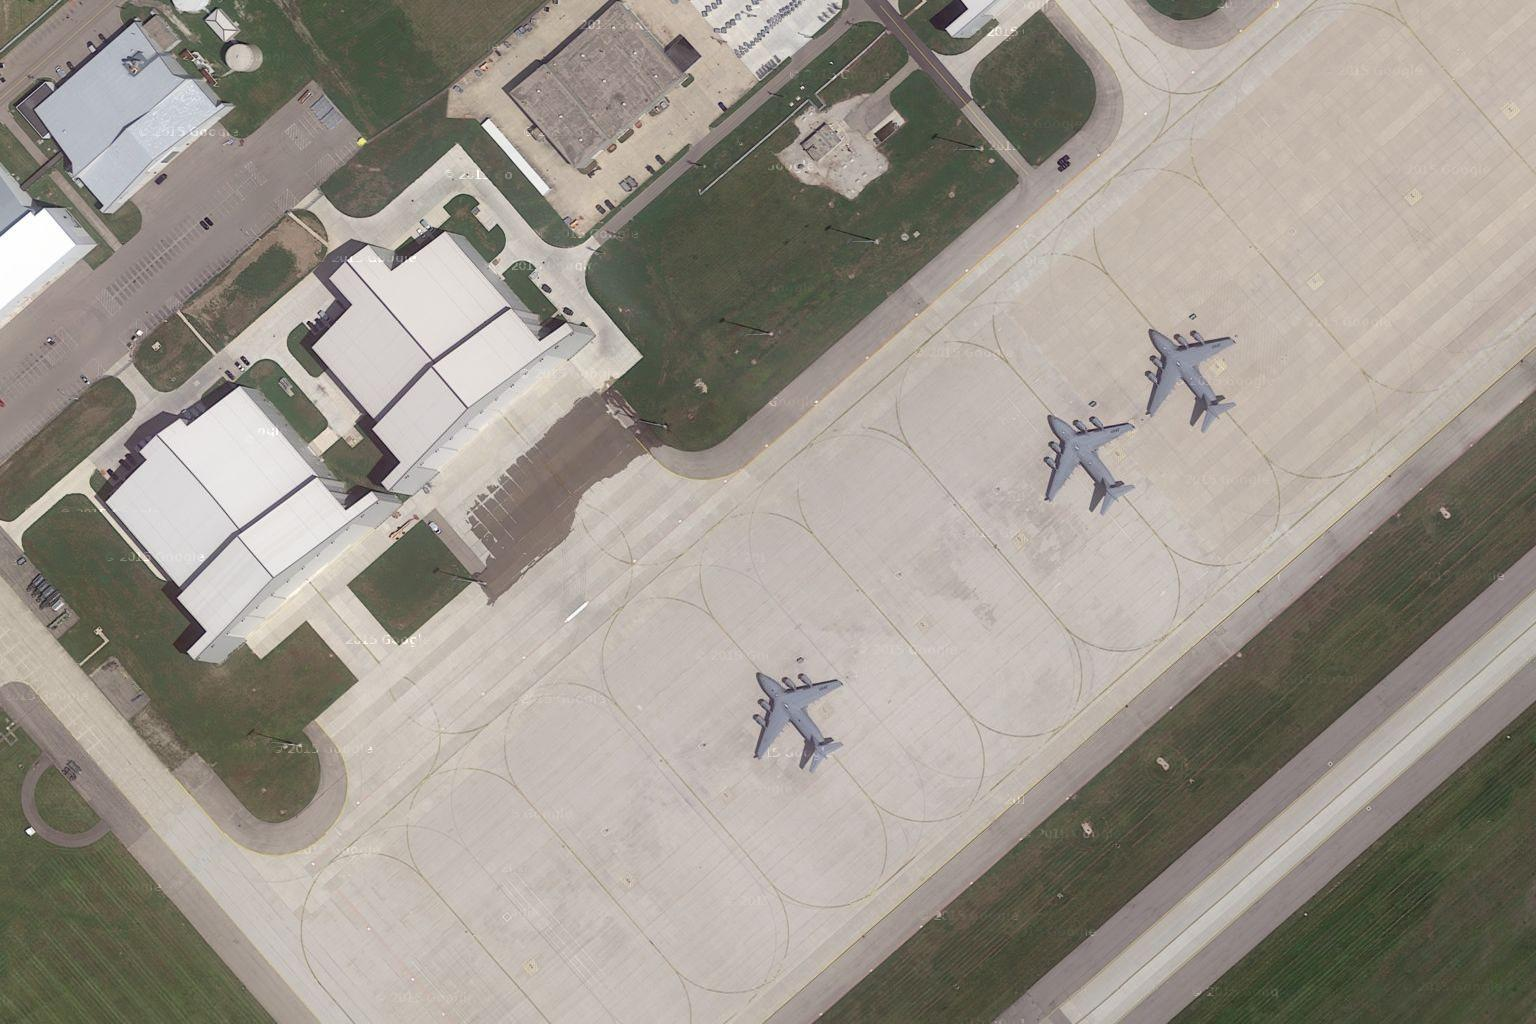C-17: (745, 662, 853, 777), (1135, 317, 1240, 432), (1035, 411, 1143, 517)
